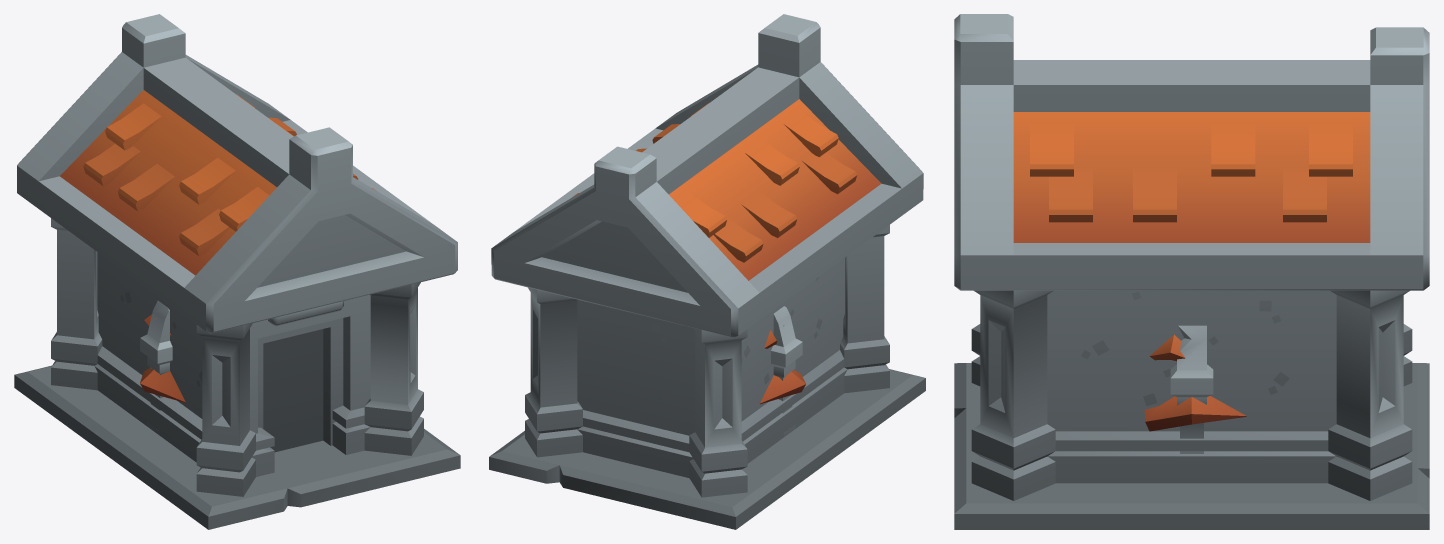
Rendered from env.glb.
3 renders of one model, left to right at view 1: azimuth 30°, elevation 25°; view 2: azimuth 150°, elevation 25°; view 3: azimuth 270°, elevation 25°, orthographic. The views are drawn at different scales.
Visible parts, largest first — view 1: crypt, arch, tree_pine_orange_large; view 2: crypt, arch, tree_pine_orange_large; view 3: crypt, arch, tree_pine_orange_large.
Part boxes in pixels (left/top/right/bottom): crypt: left=14, top=14, right=460, bottom=529; arch: left=140, top=300, right=172, bottom=435; tree_pine_orange_large: left=140, top=314, right=185, bottom=402; crypt: left=489, top=14, right=925, bottom=529; arch: left=771, top=306, right=802, bottom=436; tree_pine_orange_large: left=760, top=325, right=805, bottom=404; crypt: left=954, top=14, right=1429, bottom=529; arch: left=1170, top=325, right=1213, bottom=453; tree_pine_orange_large: left=1144, top=334, right=1246, bottom=431.
Bounding box in the file's own units: 6 × 9 × 8.
Materials: 5 (5 with a texture image).
